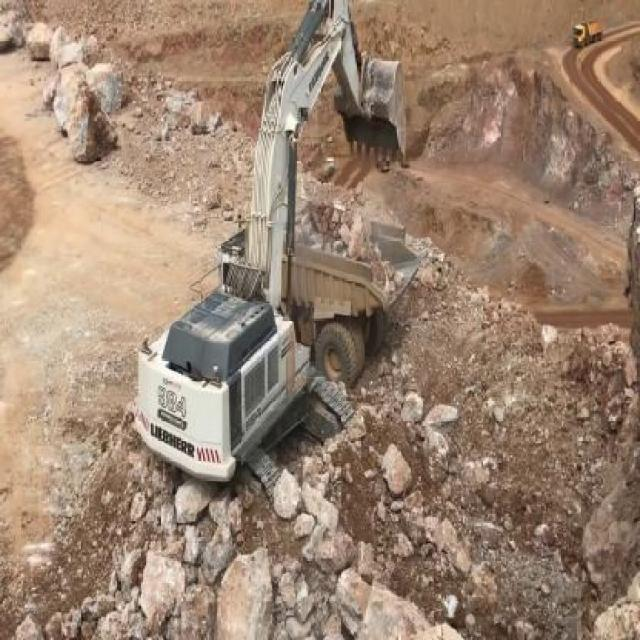Dump Truck: (217, 200, 420, 389), (572, 18, 605, 47)
Excavator: (127, 0, 409, 518)
